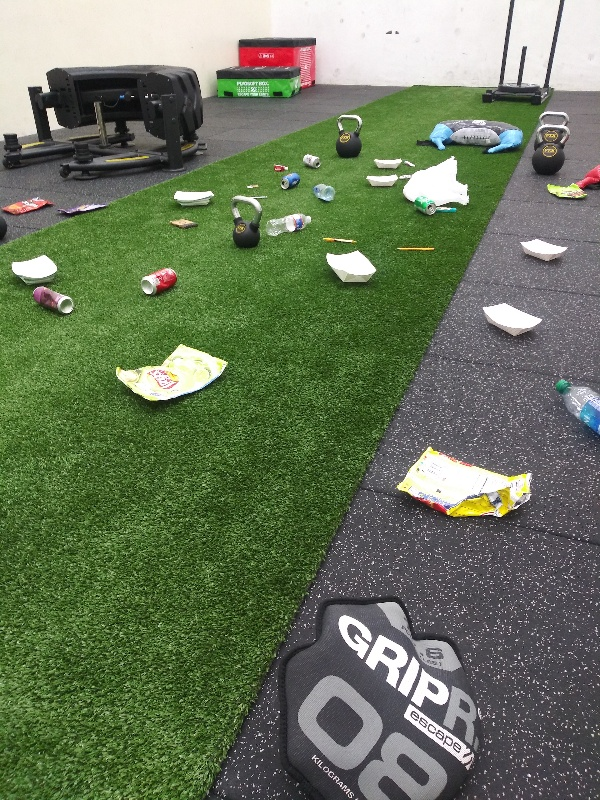bag: (390, 443, 538, 529), (115, 343, 229, 406), (2, 192, 54, 219), (538, 181, 591, 202), (52, 199, 109, 218)
bottle: (549, 376, 600, 438), (262, 211, 315, 240), (309, 181, 338, 210)
can: (28, 281, 74, 317), (132, 265, 181, 297), (413, 192, 437, 217), (279, 172, 302, 192), (299, 152, 324, 170)
plate: (478, 298, 545, 342), (318, 244, 378, 287), (5, 253, 67, 287), (514, 235, 571, 267), (169, 186, 219, 210), (368, 154, 409, 175), (362, 169, 399, 189)
